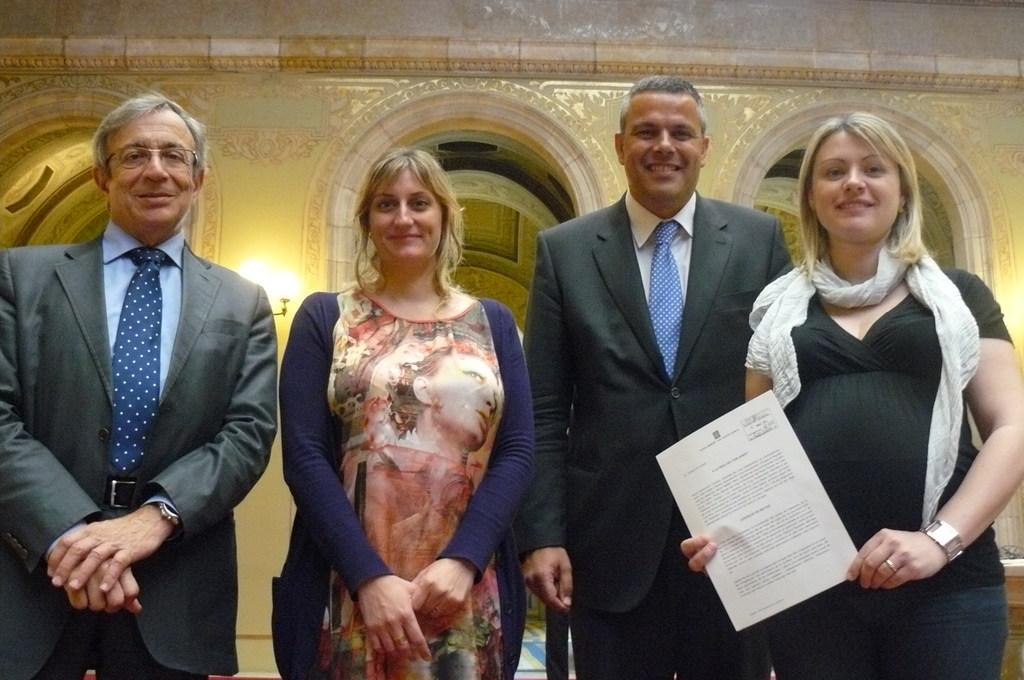Sem Máscara: (106, 100, 194, 233), (802, 122, 902, 237), (620, 89, 701, 205), (367, 167, 443, 270)
